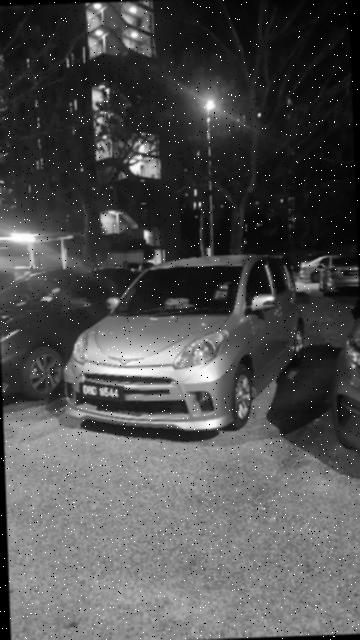License_Plate: (79, 381, 127, 407)
car: (54, 246, 314, 442), (1, 259, 155, 402)
